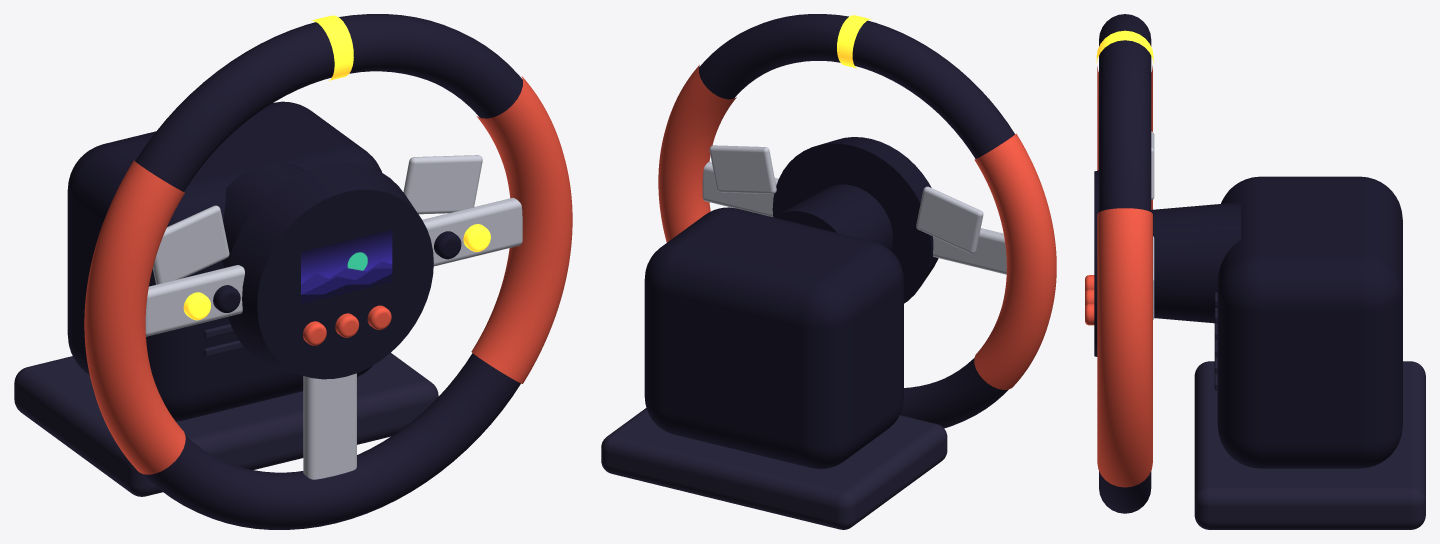
The model's file is volante-pedales.glb.
The picture shows the model from 3 angles, left to right: view 1: azimuth 30°, elevation 25°; view 2: azimuth 150°, elevation 25°; view 3: azimuth 270°, elevation 25°; orthographic projection. The views are drawn at different scales.
Size of the model in its own units: 3.26 by 3.26 by 2.21.
13 materials, 1 textured.
